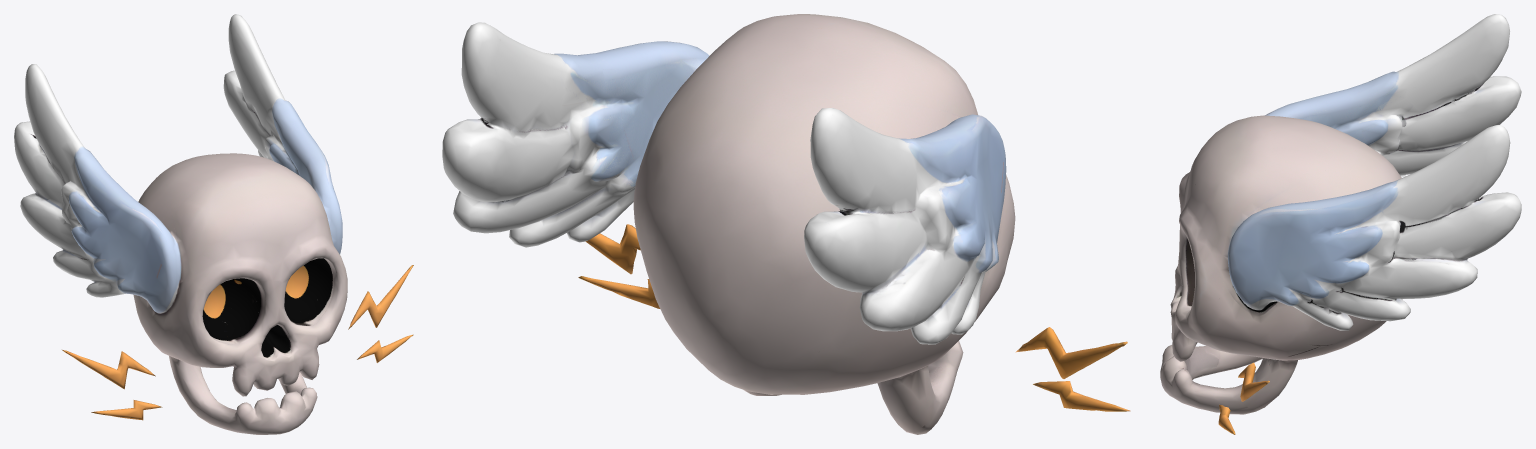
The model's file is Skully_Companion.glb.
3 renders of one model, left to right at view 1: azimuth 30°, elevation 25°; view 2: azimuth 150°, elevation 25°; view 3: azimuth 270°, elevation 25°, orthographic. The views are drawn at different scales.
Parts seen in each view (by area): view 1: Mesh_0; view 2: Mesh_0; view 3: Mesh_0.
Boxes of the visible parts, x1,y1,x2,y2 form: Mesh_0: (14,14,413,434); Mesh_0: (442,14,1130,434); Mesh_0: (1160,14,1521,434).
Size of the model in its own units: 5.12 by 4 by 4.08.
Materials: 1 (1 with a texture image).
